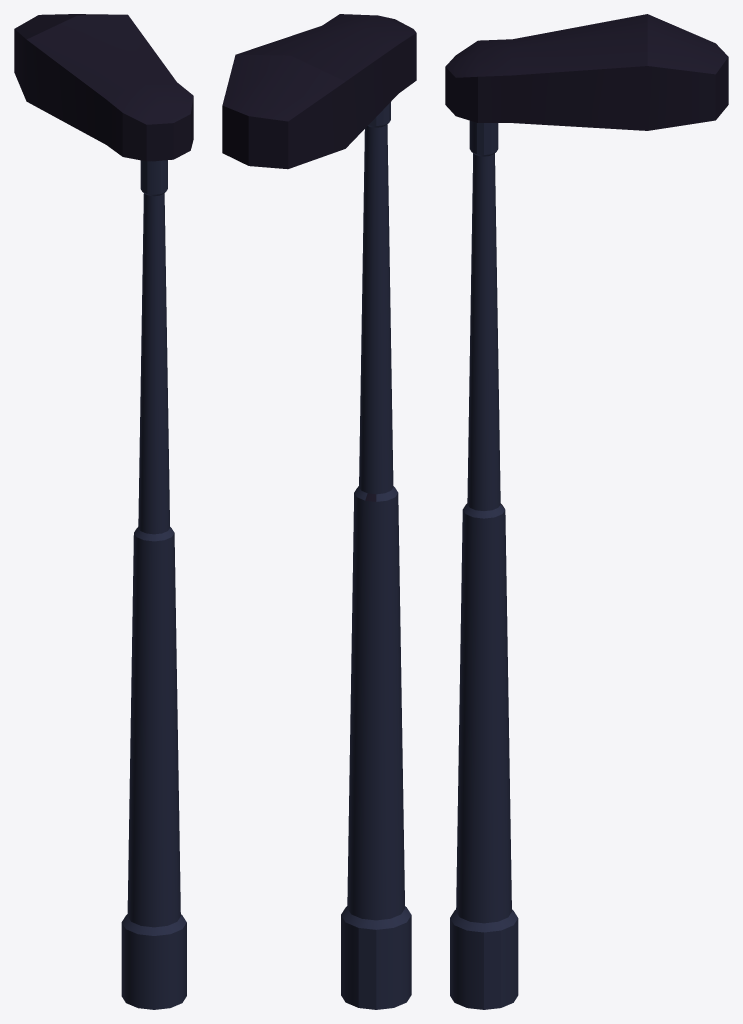
Rendered from Farol.Proyectountitled.fbx.
The picture shows the model from 3 angles, left to right: view 1: azimuth 30°, elevation 25°; view 2: azimuth 150°, elevation 25°; view 3: azimuth 270°, elevation 25°; orthographic projection. The views are drawn at different scales.
Parts seen in each view (by area): view 1: Cylinder.006; view 2: Cylinder.006; view 3: Cylinder.006.
Part boxes in pixels (bbox=[...]): Cylinder.006: bbox=[14, 14, 193, 1009]; Cylinder.006: bbox=[222, 14, 416, 1009]; Cylinder.006: bbox=[445, 14, 728, 1009].
Bounding box in the file's own units: 71.92 × 625 × 166.
Materials: 1 (1 with a texture image).
